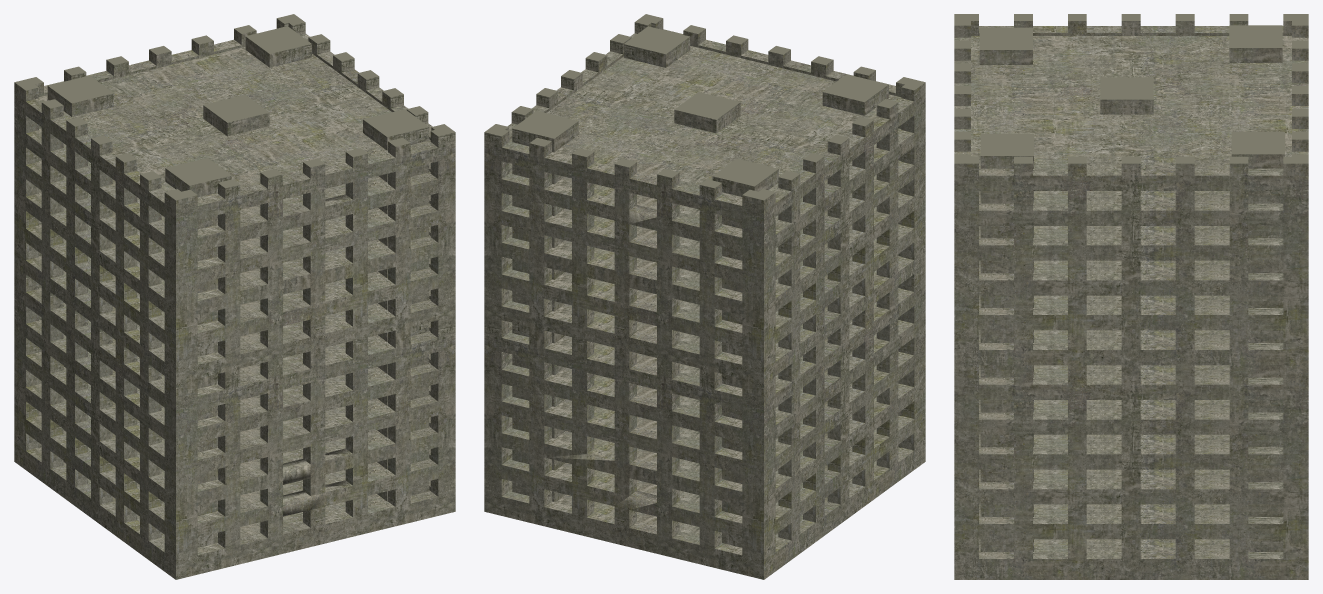
3 renders of one model, left to right at view 1: azimuth 30°, elevation 25°; view 2: azimuth 150°, elevation 25°; view 3: azimuth 270°, elevation 25°, orthographic. The views are drawn at different scales.
Parts seen in each view (by area): view 1: Cube.014_4; view 2: Cube.014_4; view 3: Cube.014_4.
Part boxes in pixels (bbox=[...]): Cube.014_4: bbox=[14, 14, 455, 579]; Cube.014_4: bbox=[484, 14, 925, 579]; Cube.014_4: bbox=[954, 14, 1308, 579].
Bounding box in the file's own units: 3.05 × 3.95 × 3.05.
Materials: 1 (1 with a texture image).
